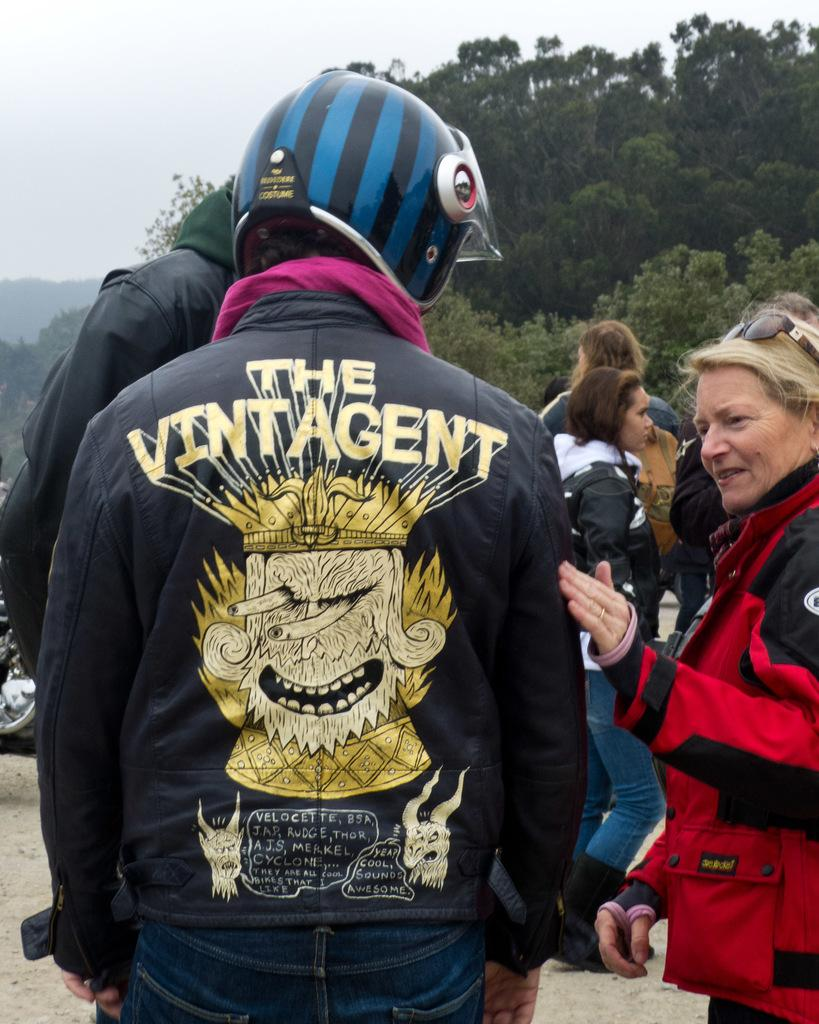helmet: (230, 70, 505, 319)
nohelmet: (689, 313, 819, 520), (568, 366, 655, 454), (575, 319, 643, 397)
